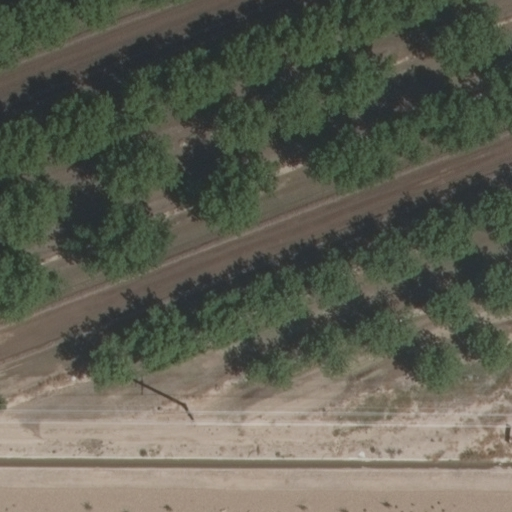DT: (175, 400, 201, 428)
